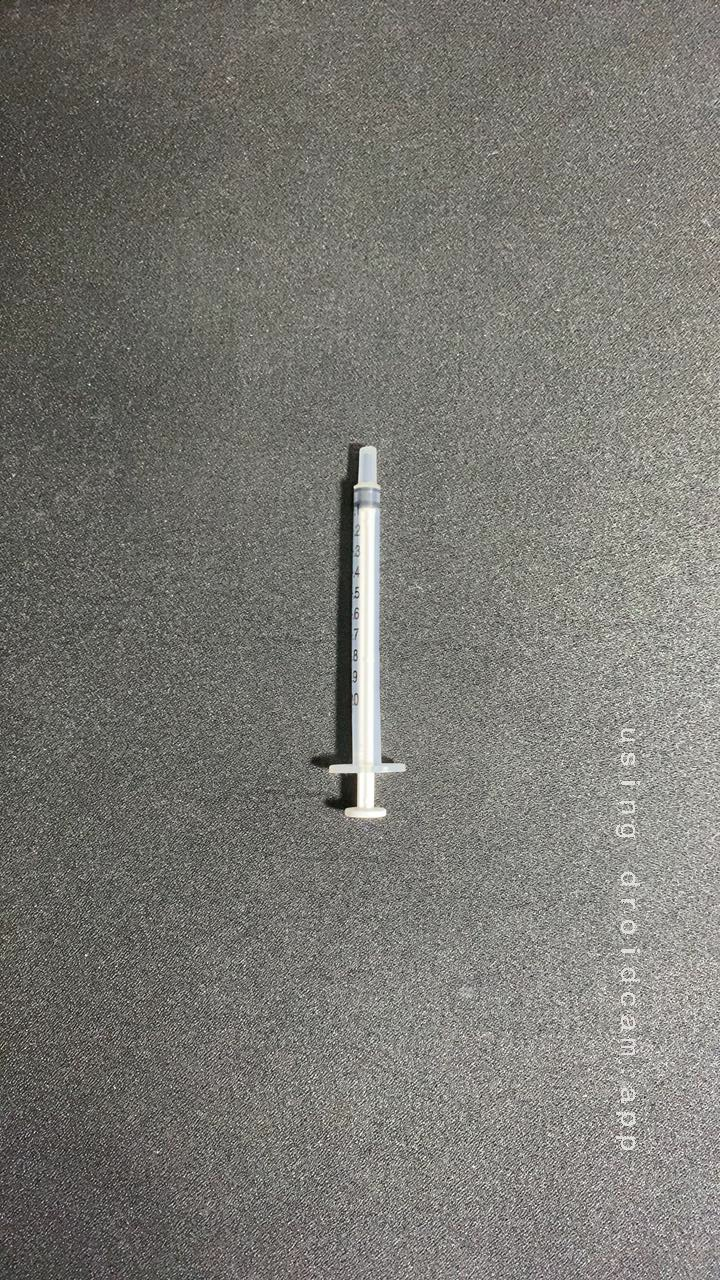syringe: (293, 426, 428, 833)
